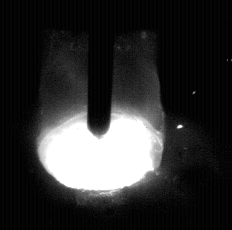arame: (88, 0, 113, 136)
poca: (36, 0, 166, 230)
